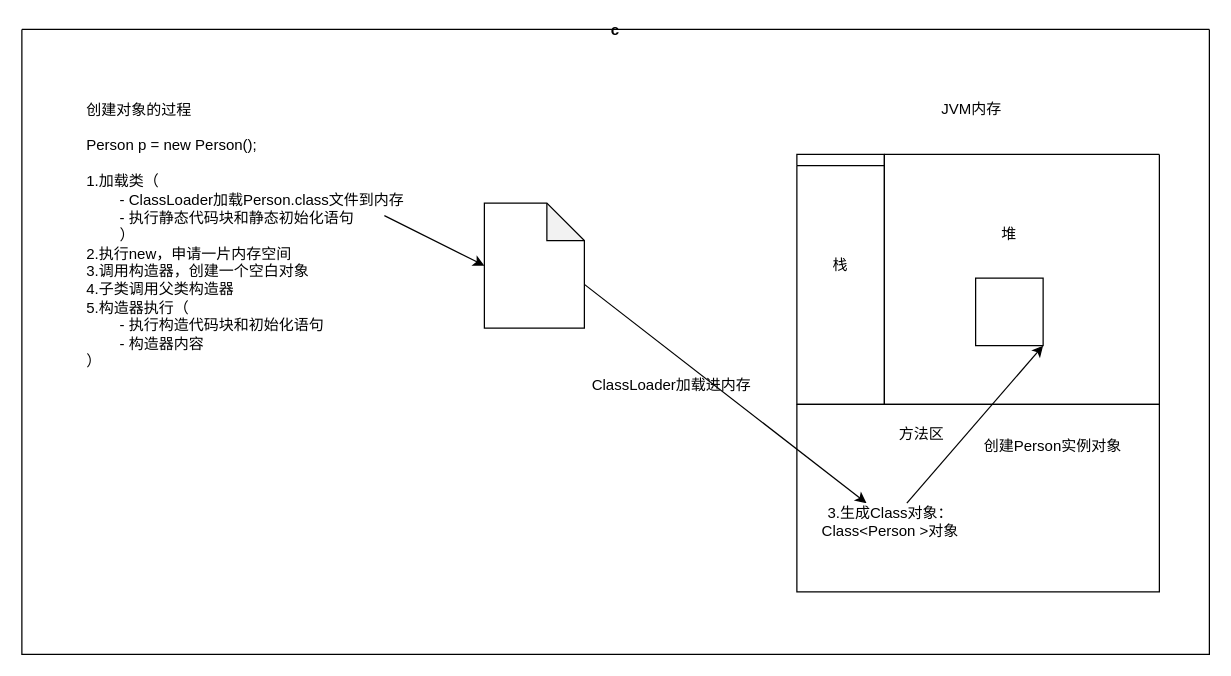
The diagram is 1231 pixels wide and 676 high, and some of its shapes have lost their labels. Each missing label, with the centre of its shape:
Person: point (1008, 311)
Person.class: point (533, 265)
